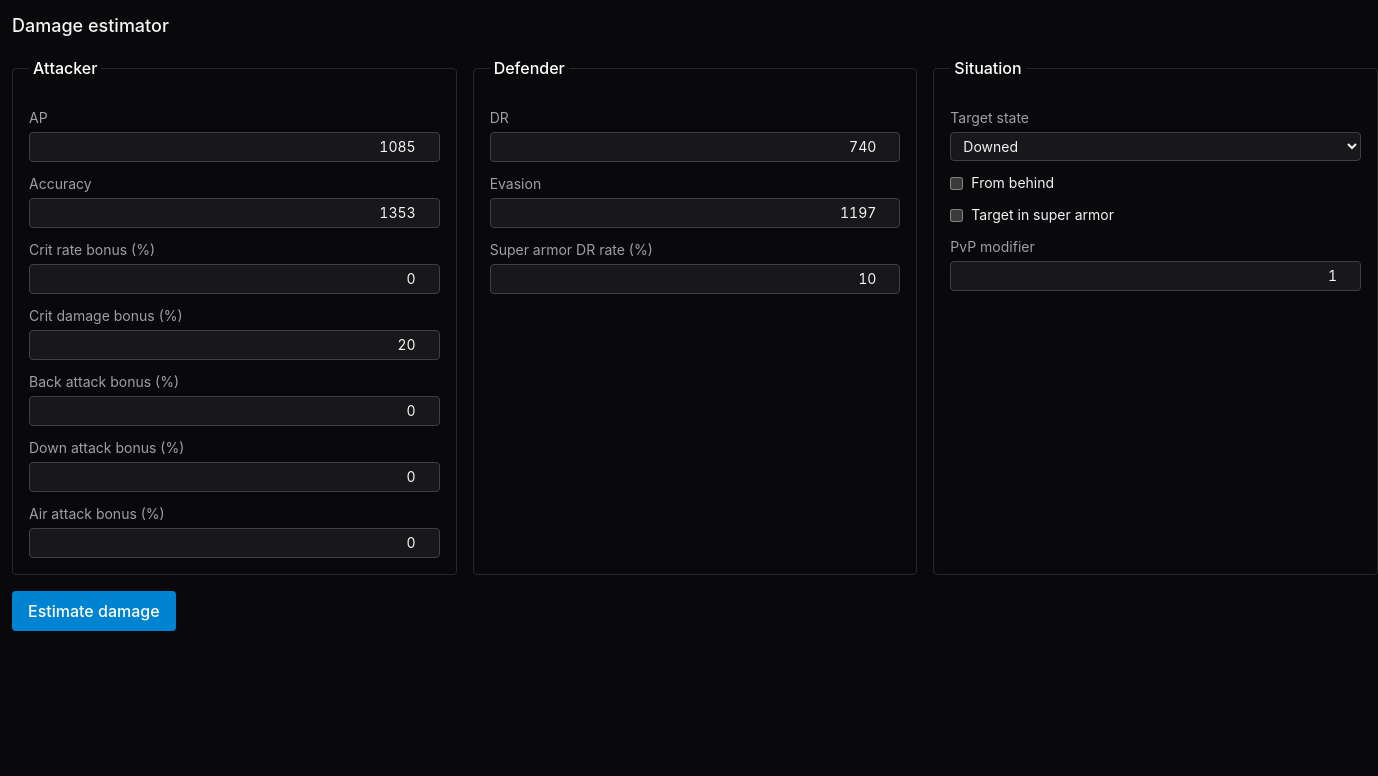
it: DamageEstimator › submits the default form as the contract example
The width and height of the screenshot is (1378, 776).
Click the button "Estimate damage": (94, 611) [12,591,176,631]
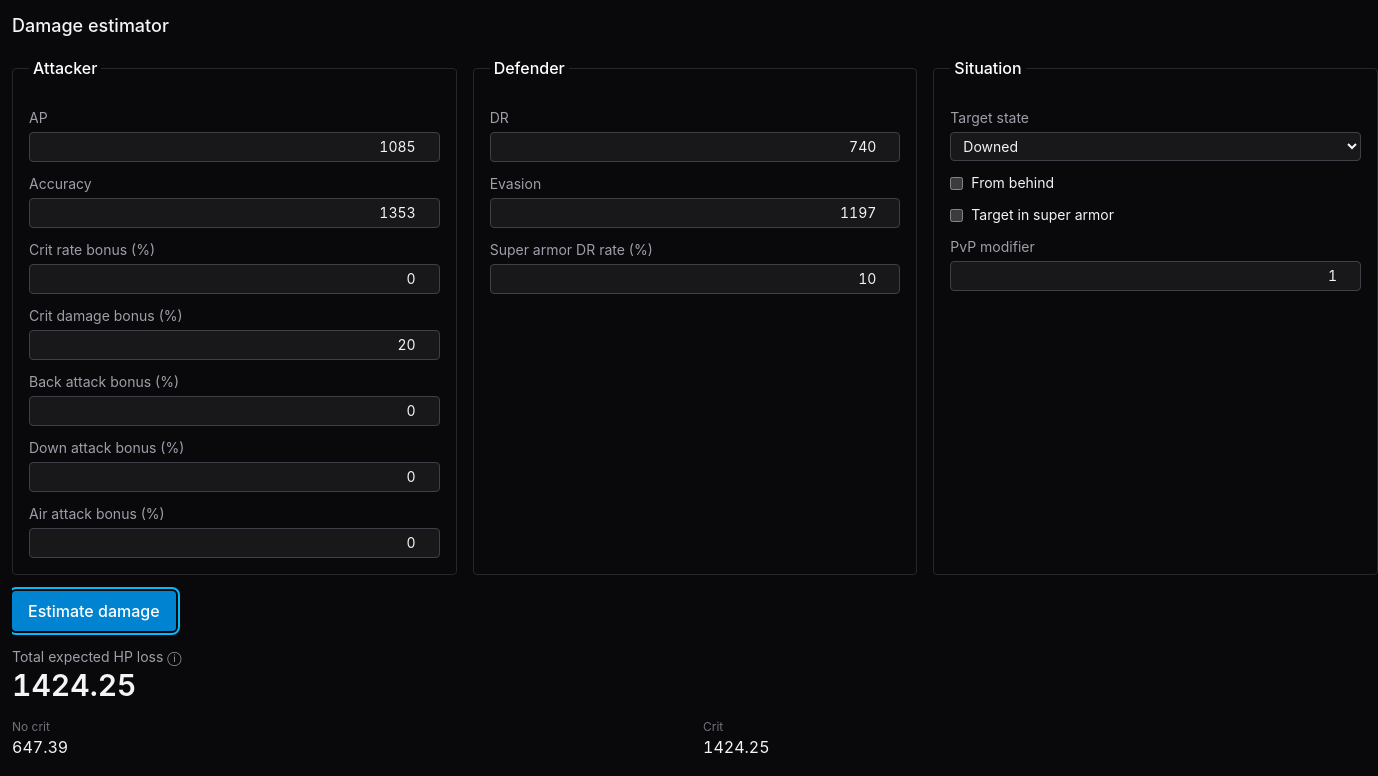
Now the text "1424.25" below "Total expected HP loss" is shown, box [12,667,136,703]
